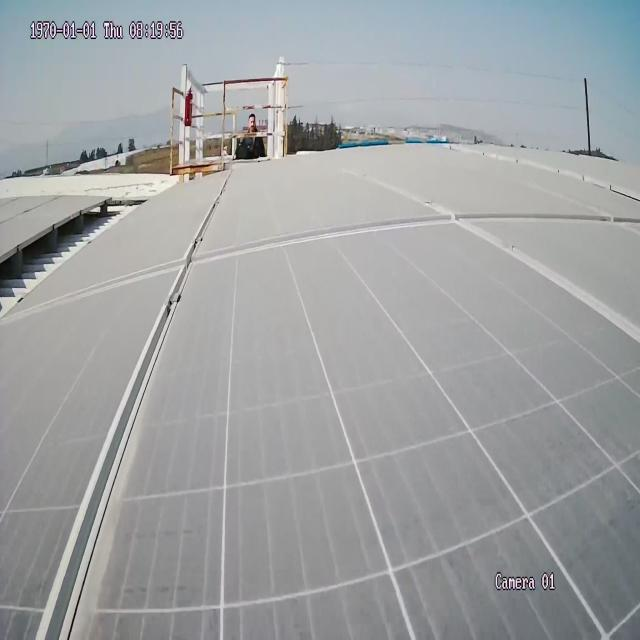interior panel: (0, 166, 640, 640)
outher panel: (0, 192, 160, 332)
